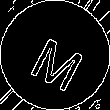M_NE: (23, 22, 87, 88)
